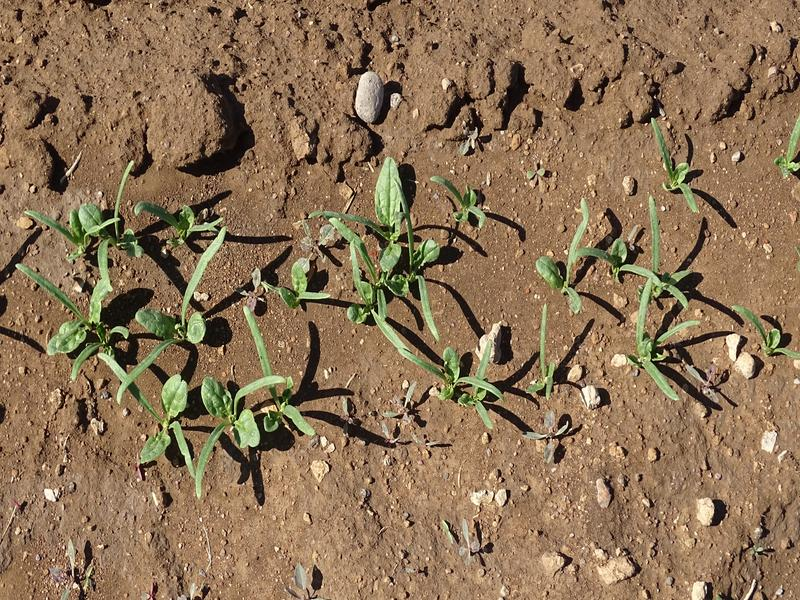Espinaca: (23, 176, 338, 491), (524, 197, 800, 406), (343, 171, 512, 427), (643, 116, 707, 210)
